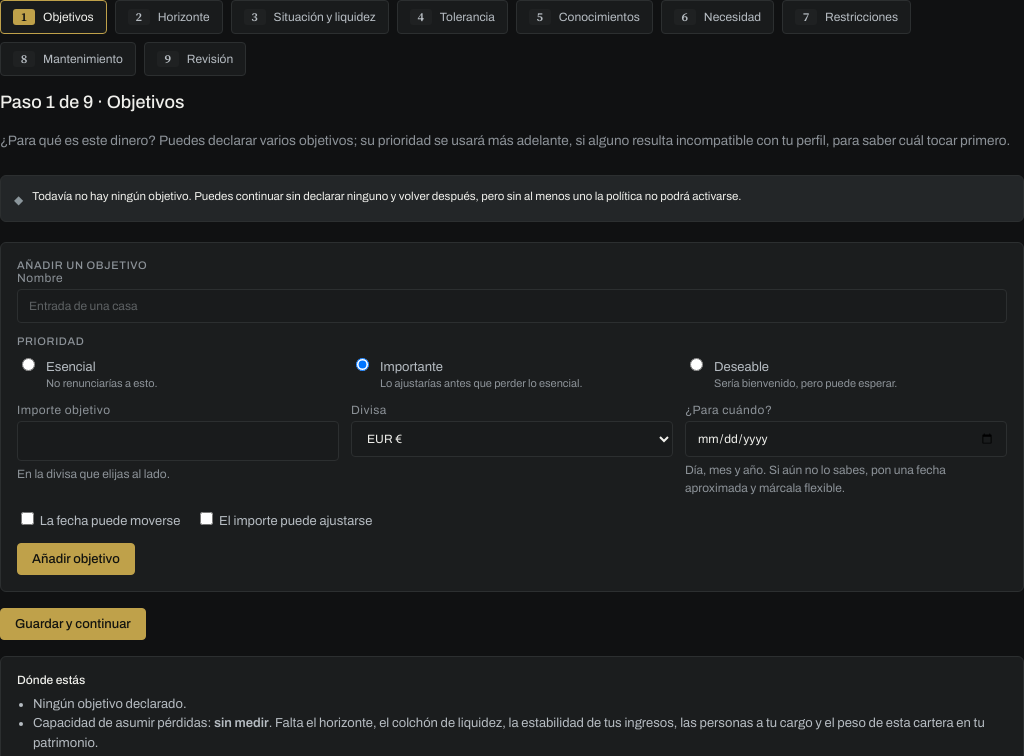
Test: IpsWizard · navegación por pasos › deja saltar a un paso concreto desde la lista
Step 1. Click the button "2 Horizonte" → (169, 17), box left=115, top=0, right=222, bottom=34
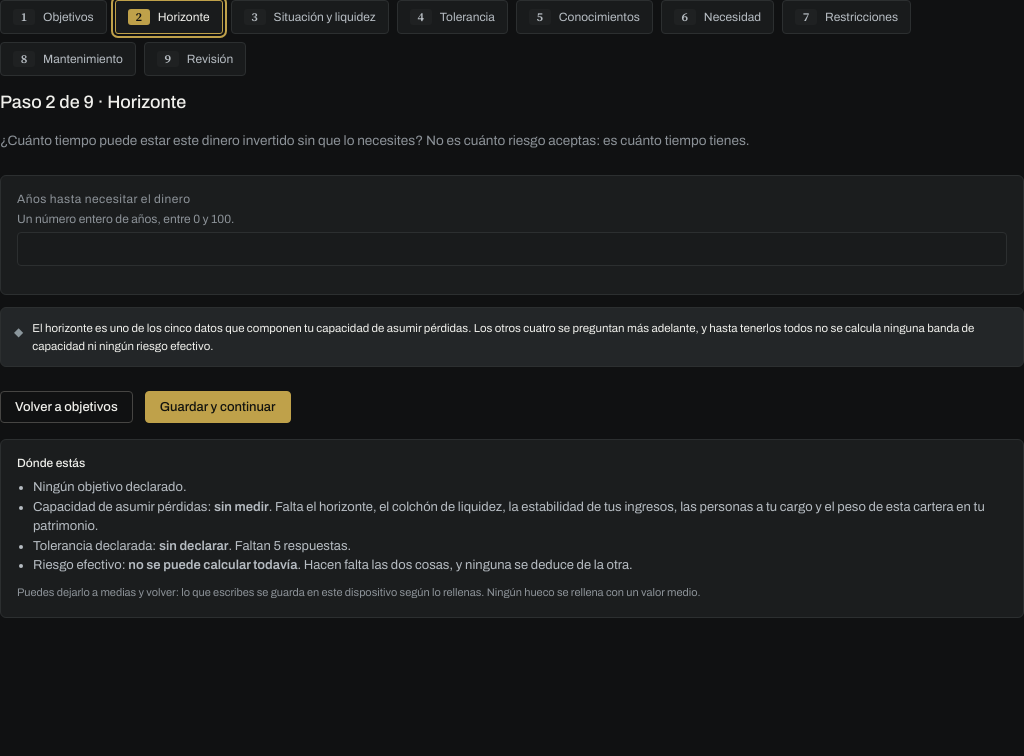
Expected: the heading "Paso 2 de 9 · Horizonte" is shown, left=0, top=92, right=186, bottom=112
